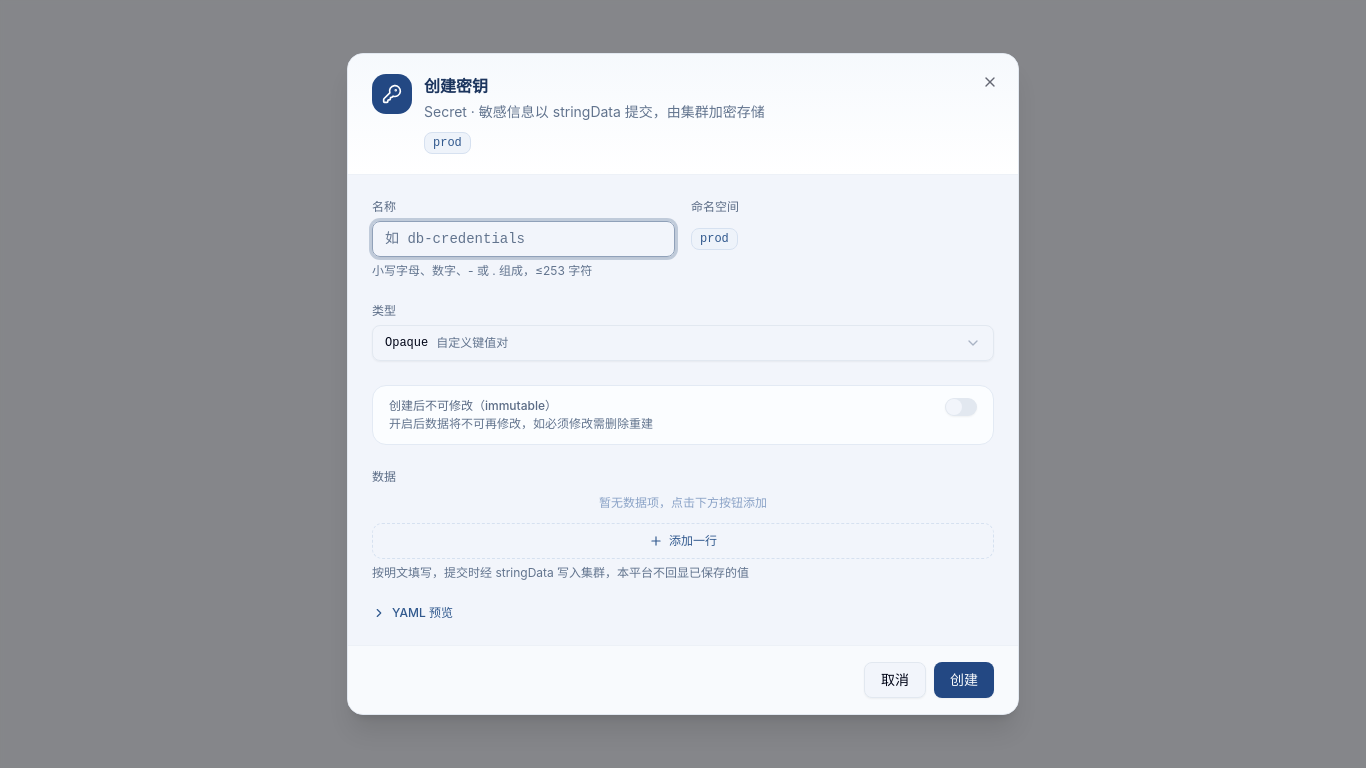
Test: SecretCreateDialog › blocks submit while a typed data key is invalid
The image size is (1366, 768).
Type "ok-name" into the field named "名称" at (524, 239), box [372, 221, 675, 257]
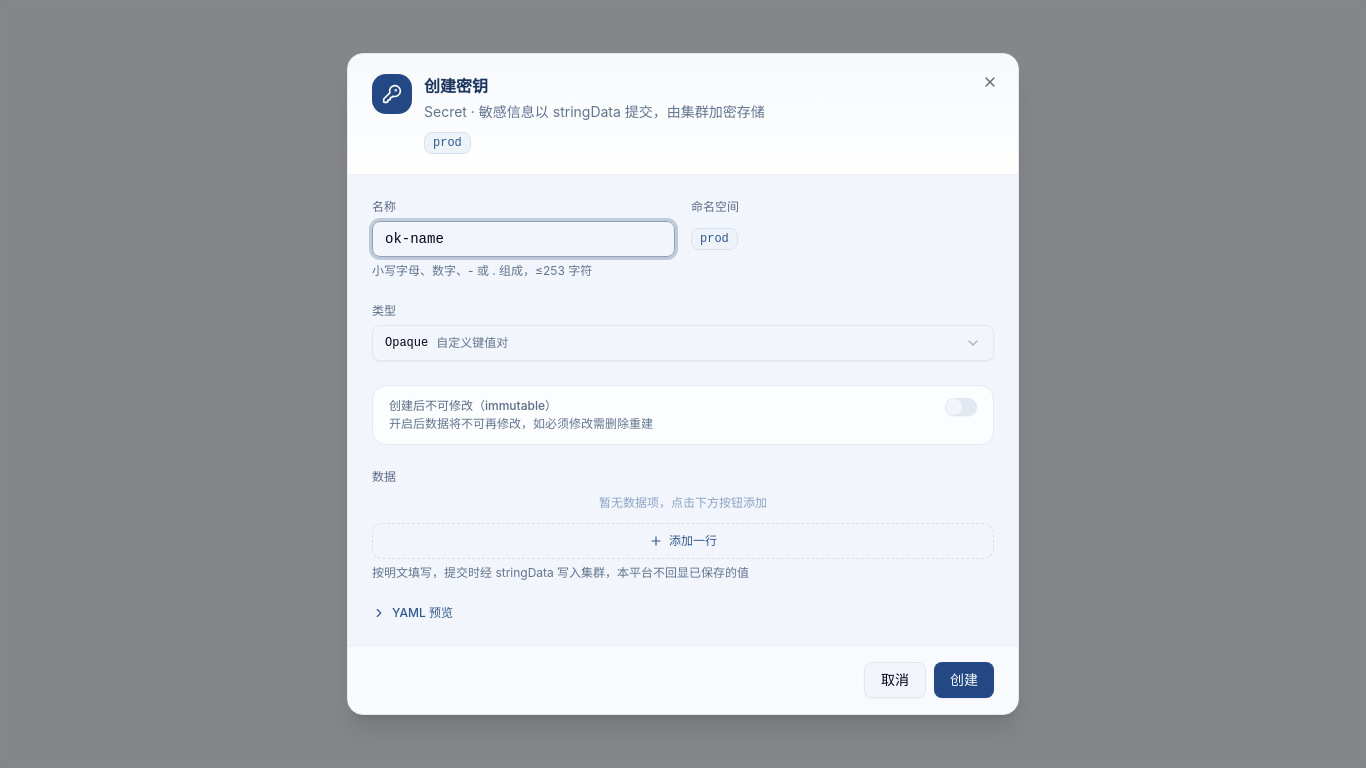
Click the button "添加一行" at (683, 541), box [372, 523, 994, 559]
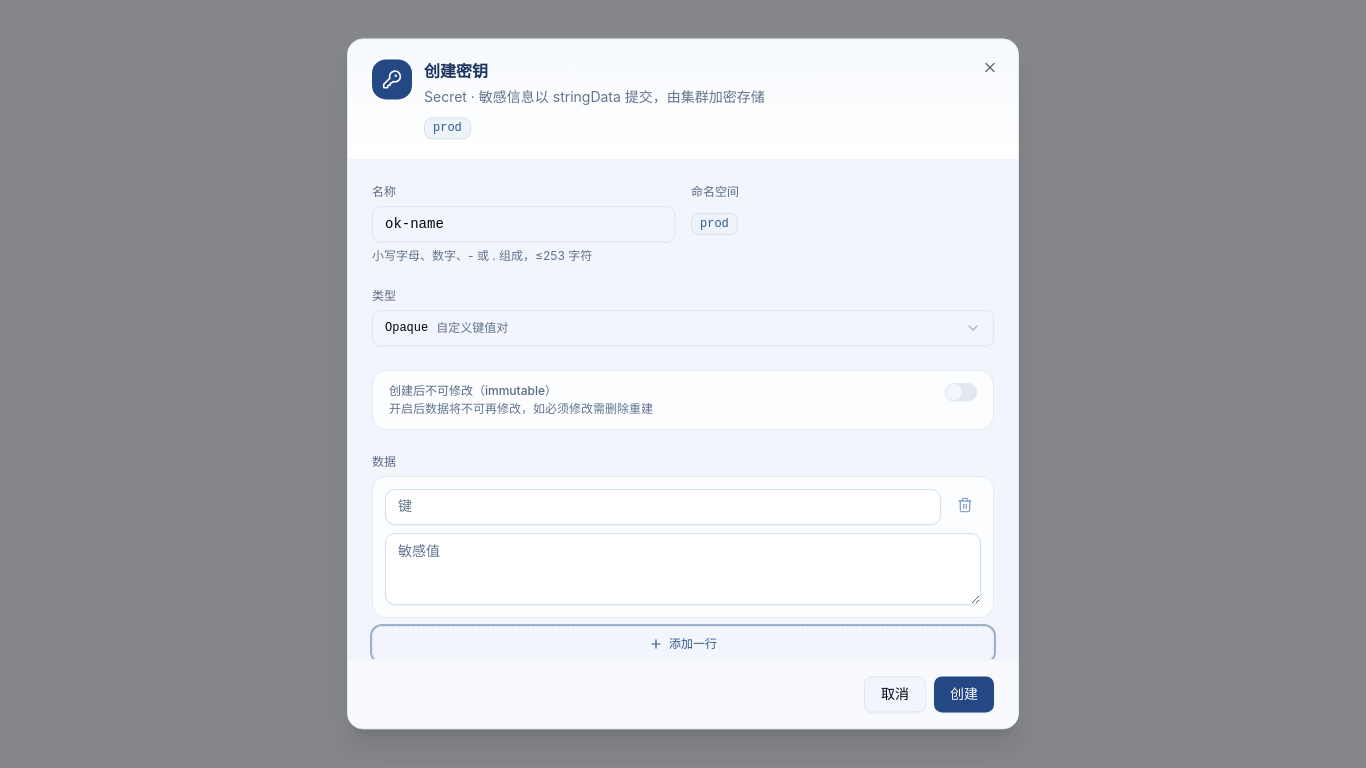
Type "orphan-value" into the text box named "值 1" at (683, 569), box [385, 533, 981, 605]
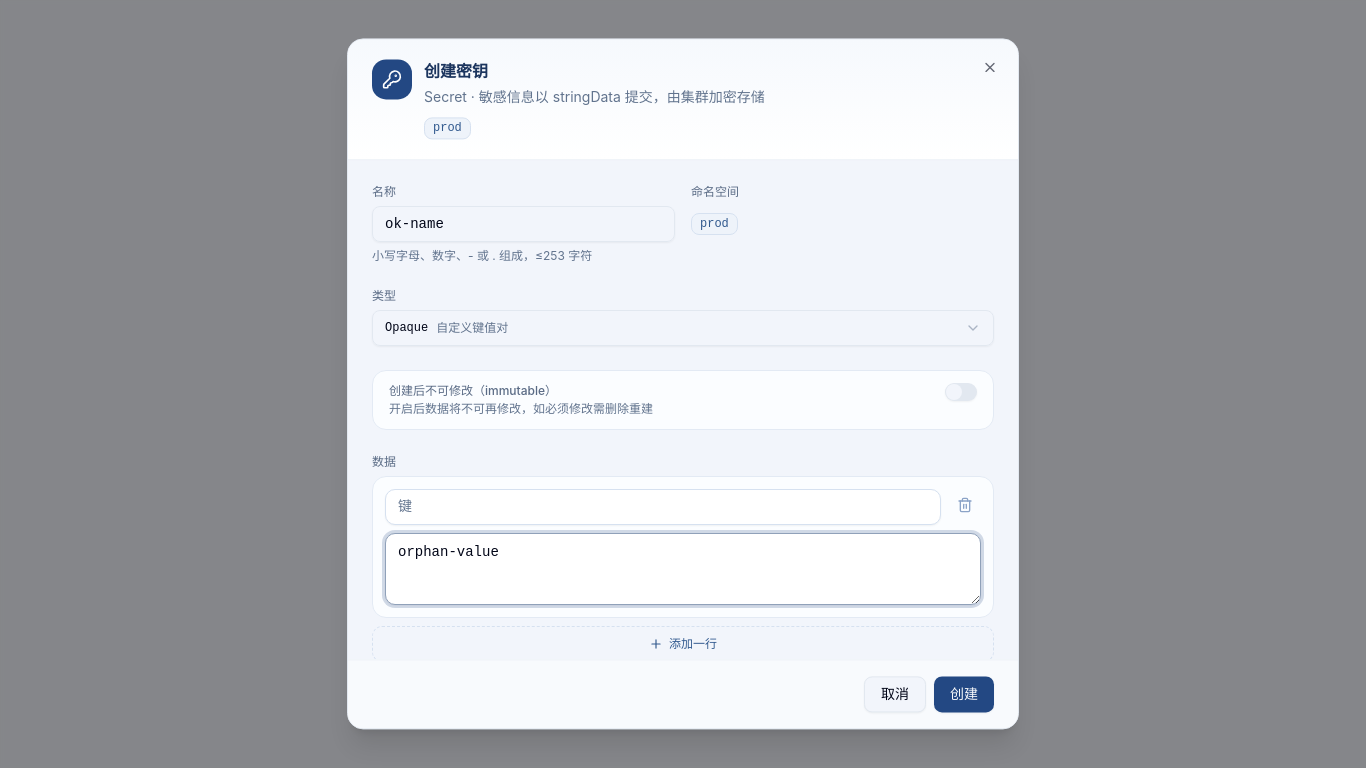
// A value typed against an empty key is invalid.
Click the button "创建" at (964, 695), box [934, 677, 994, 713]
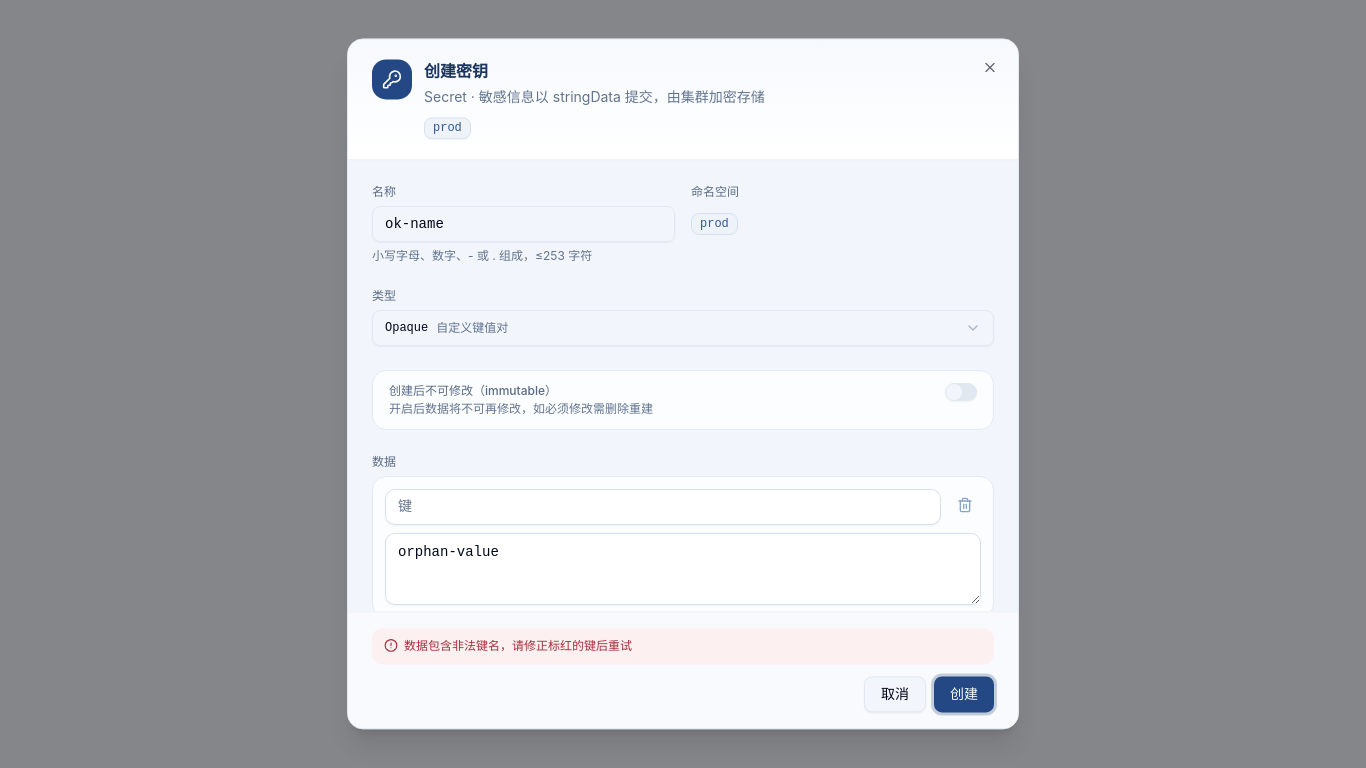
Expected: the text "数据包含非法键名，请修正标红的键后重试" is shown, [404, 637, 632, 657]
